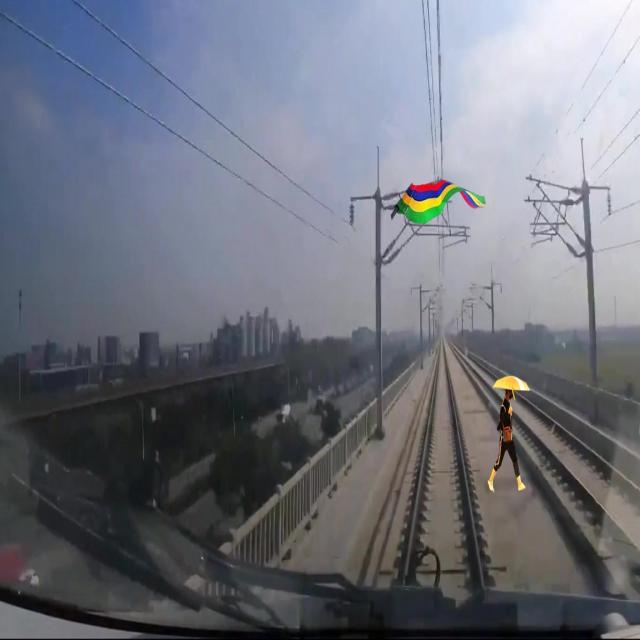floating object: (392, 177, 480, 226)
